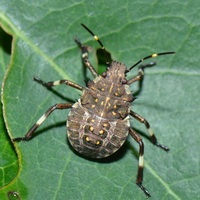insect: (13, 37, 175, 196)
